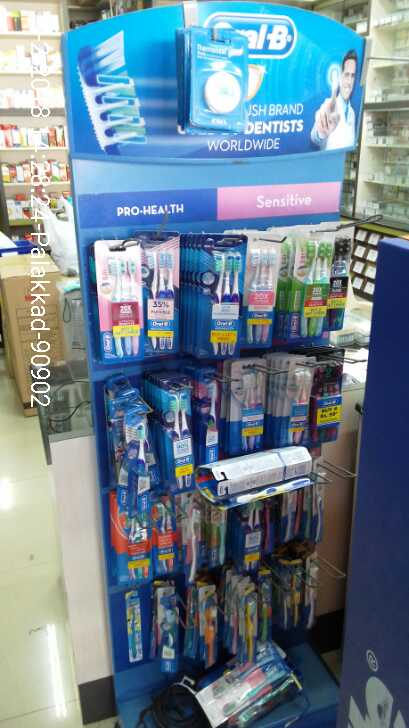oralb: (191, 229, 244, 358), (90, 243, 142, 364), (121, 406, 157, 528), (239, 230, 276, 347), (143, 230, 179, 350), (226, 367, 273, 451), (161, 388, 197, 476), (298, 231, 326, 343), (282, 355, 313, 443), (184, 496, 205, 576), (206, 584, 226, 665)
